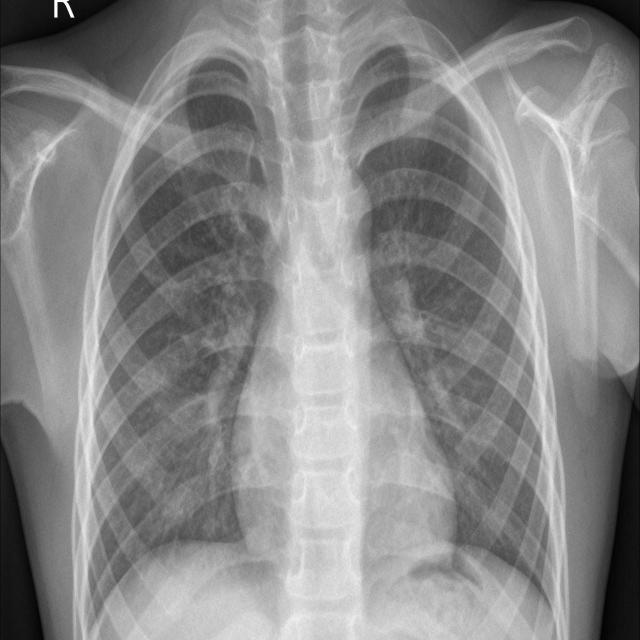no-pneumonia: (351, 51, 557, 602), (87, 58, 274, 617)
